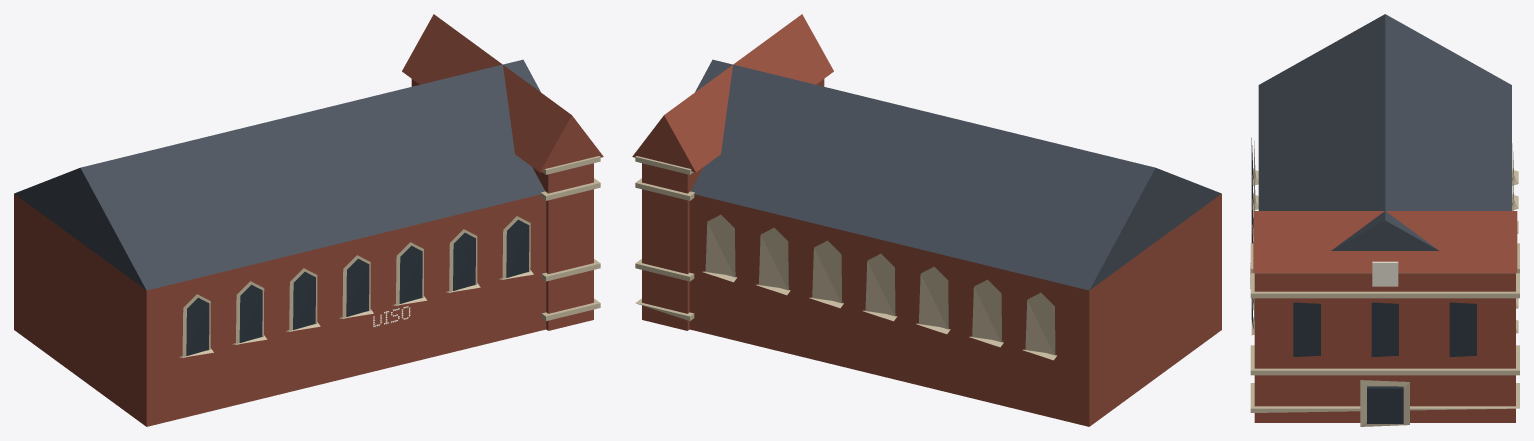
File: paradiso.lod1.glb
The picture shows the model from 3 angles, left to right: view 1: azimuth 30°, elevation 25°; view 2: azimuth 150°, elevation 25°; view 3: azimuth 270°, elevation 25°; orthographic projection. The views are drawn at different scales.
Visible parts, largest first — view 1: paradiso; view 2: paradiso; view 3: paradiso.
Boxes of the visible parts, left/top/right/bottom form: paradiso: left=14, top=14, right=603, bottom=426; paradiso: left=632, top=14, right=1221, bottom=426; paradiso: left=1250, top=14, right=1519, bottom=426.
Size of the model in its own units: 38.67 by 17 by 20.65.
